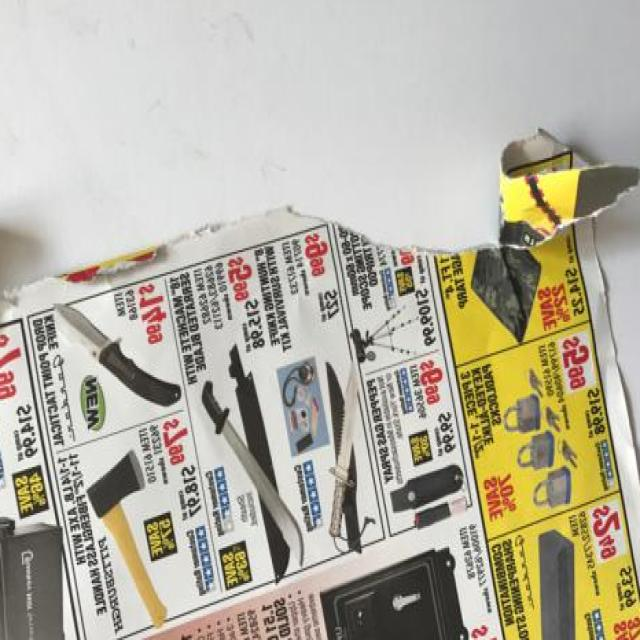kertas: (0, 125, 640, 640)
